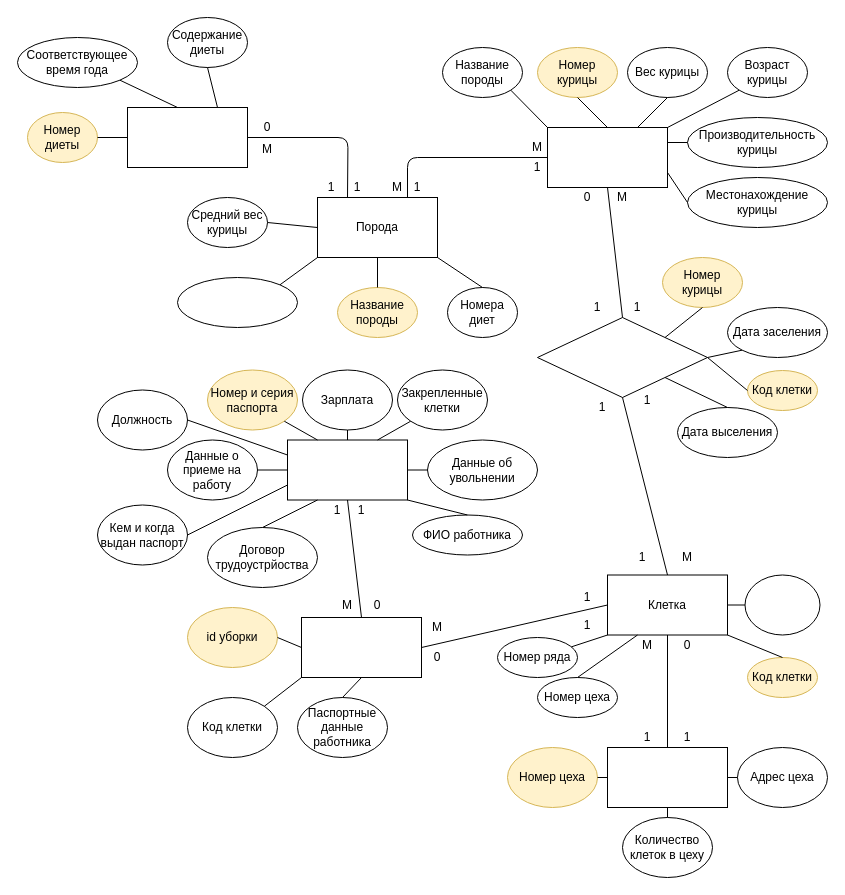
This 845x895 diagram has some shape labels left out. The shapes that lost their labels are listed below. From the top down, each one's box as (x1, y1, x2, y2) in pixels, then its label:
(126, 106, 248, 168): Диета
(546, 126, 668, 188): Курица
(176, 276, 298, 328): Средняя производительность курицы
(536, 316, 708, 398): Содержание курицы в клетке
(286, 439, 408, 500): Работник
(744, 574, 820, 635): Номер клетки в ряду
(300, 616, 422, 678): Уборка
(606, 746, 728, 808): Цех
